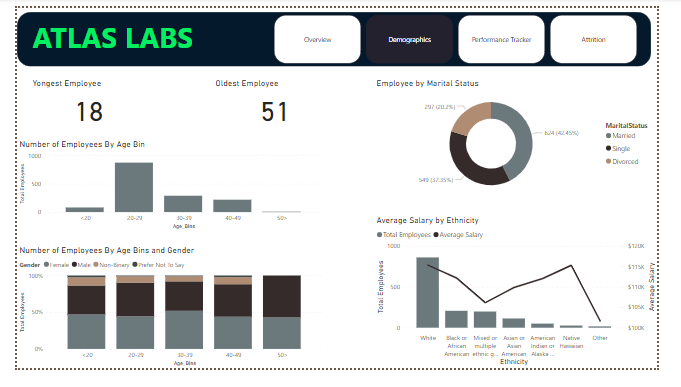

What the dashboard file says about the page in this screenshot:
{"tool":"powerbi","page":{"name":"Demographics","canvas":[1280,720],"ordinal":1},"visuals":[{"type":"card","title":"Yongest Employee","fields":{"Values":["_Measures.Min Age"]},"box":[26.6,140.3,234.8,101.9],"z":0},{"type":"card","title":"Oldest Employee","fields":{"Values":["_Measures.Max Age"]},"box":[392.9,140.3,246.6,101.9],"z":1000},{"type":"columnChart","title":"Number of Employees By Age Bin","fields":{"Category":["DimEmployee.Age_Bins"],"Y":["_Measures.Total Employees"]},"box":[0,261.6,614.2,185.1],"z":2000},{"type":"hundredPercentStackedColumnChart","title":"Number of Employees By Age Bins and Gender","fields":{"Category":["DimEmployee.Age_Bins"],"Y":["_Measures.Total Employees"],"Series":["DimEmployee.Gender"]},"box":[0,474.6,614.2,246.9],"z":3000},{"type":"donutChart","title":"Employee by Marital Status","fields":{"Category":["DimEmployee.MaritalStatus"],"Y":["_Measures.Total Employees"]},"box":[713.4,140.3,567.1,243.7],"z":4000},{"type":"lineStackedColumnComboChart","title":"Average Salary by Ethnicity","fields":{"Category":["DimEmployee.Ethnicity"],"Y2":["_Measures.Average Salary"],"Y":["_Measures.Total Employees"]},"box":[713.4,413.5,567.1,305.7],"z":5000},{"type":"shape","box":[0,7.5,1268.2,109],"z":5500,"group":"g1"},{"type":"textbox","box":[25.4,13.5,440.7,97.1],"z":6000,"group":"g1"},{"type":"group","id":"g1","title":"Group 1","box":[0,7.5,1268.2,109],"z":6000},{"type":"pageNavigator","box":[513.9,13.5,729,97.1],"z":8000,"group":"g1"}]}

Visuals, with their boxes in screenshot pixels (x1, y1, x2, y2), scaled from the page's 1280x720 canvas onto the 681x387 screenshot:
"Yongest Employee" card: (14, 75, 139, 130)
"Oldest Employee" card: (209, 75, 340, 130)
"Number of Employees By Age Bin" columnChart: (0, 141, 327, 240)
"Number of Employees By Age Bins and Gender" hundredPercentStackedColumnChart: (0, 255, 327, 386)
"Employee by Marital Status" donutChart: (380, 75, 680, 206)
"Average Salary by Ethnicity" lineStackedColumnComboChart: (380, 222, 680, 386)
shape: (0, 4, 675, 63)
textbox: (14, 7, 248, 59)
"Group 1" group: (0, 4, 675, 63)
pageNavigator: (273, 7, 661, 59)
